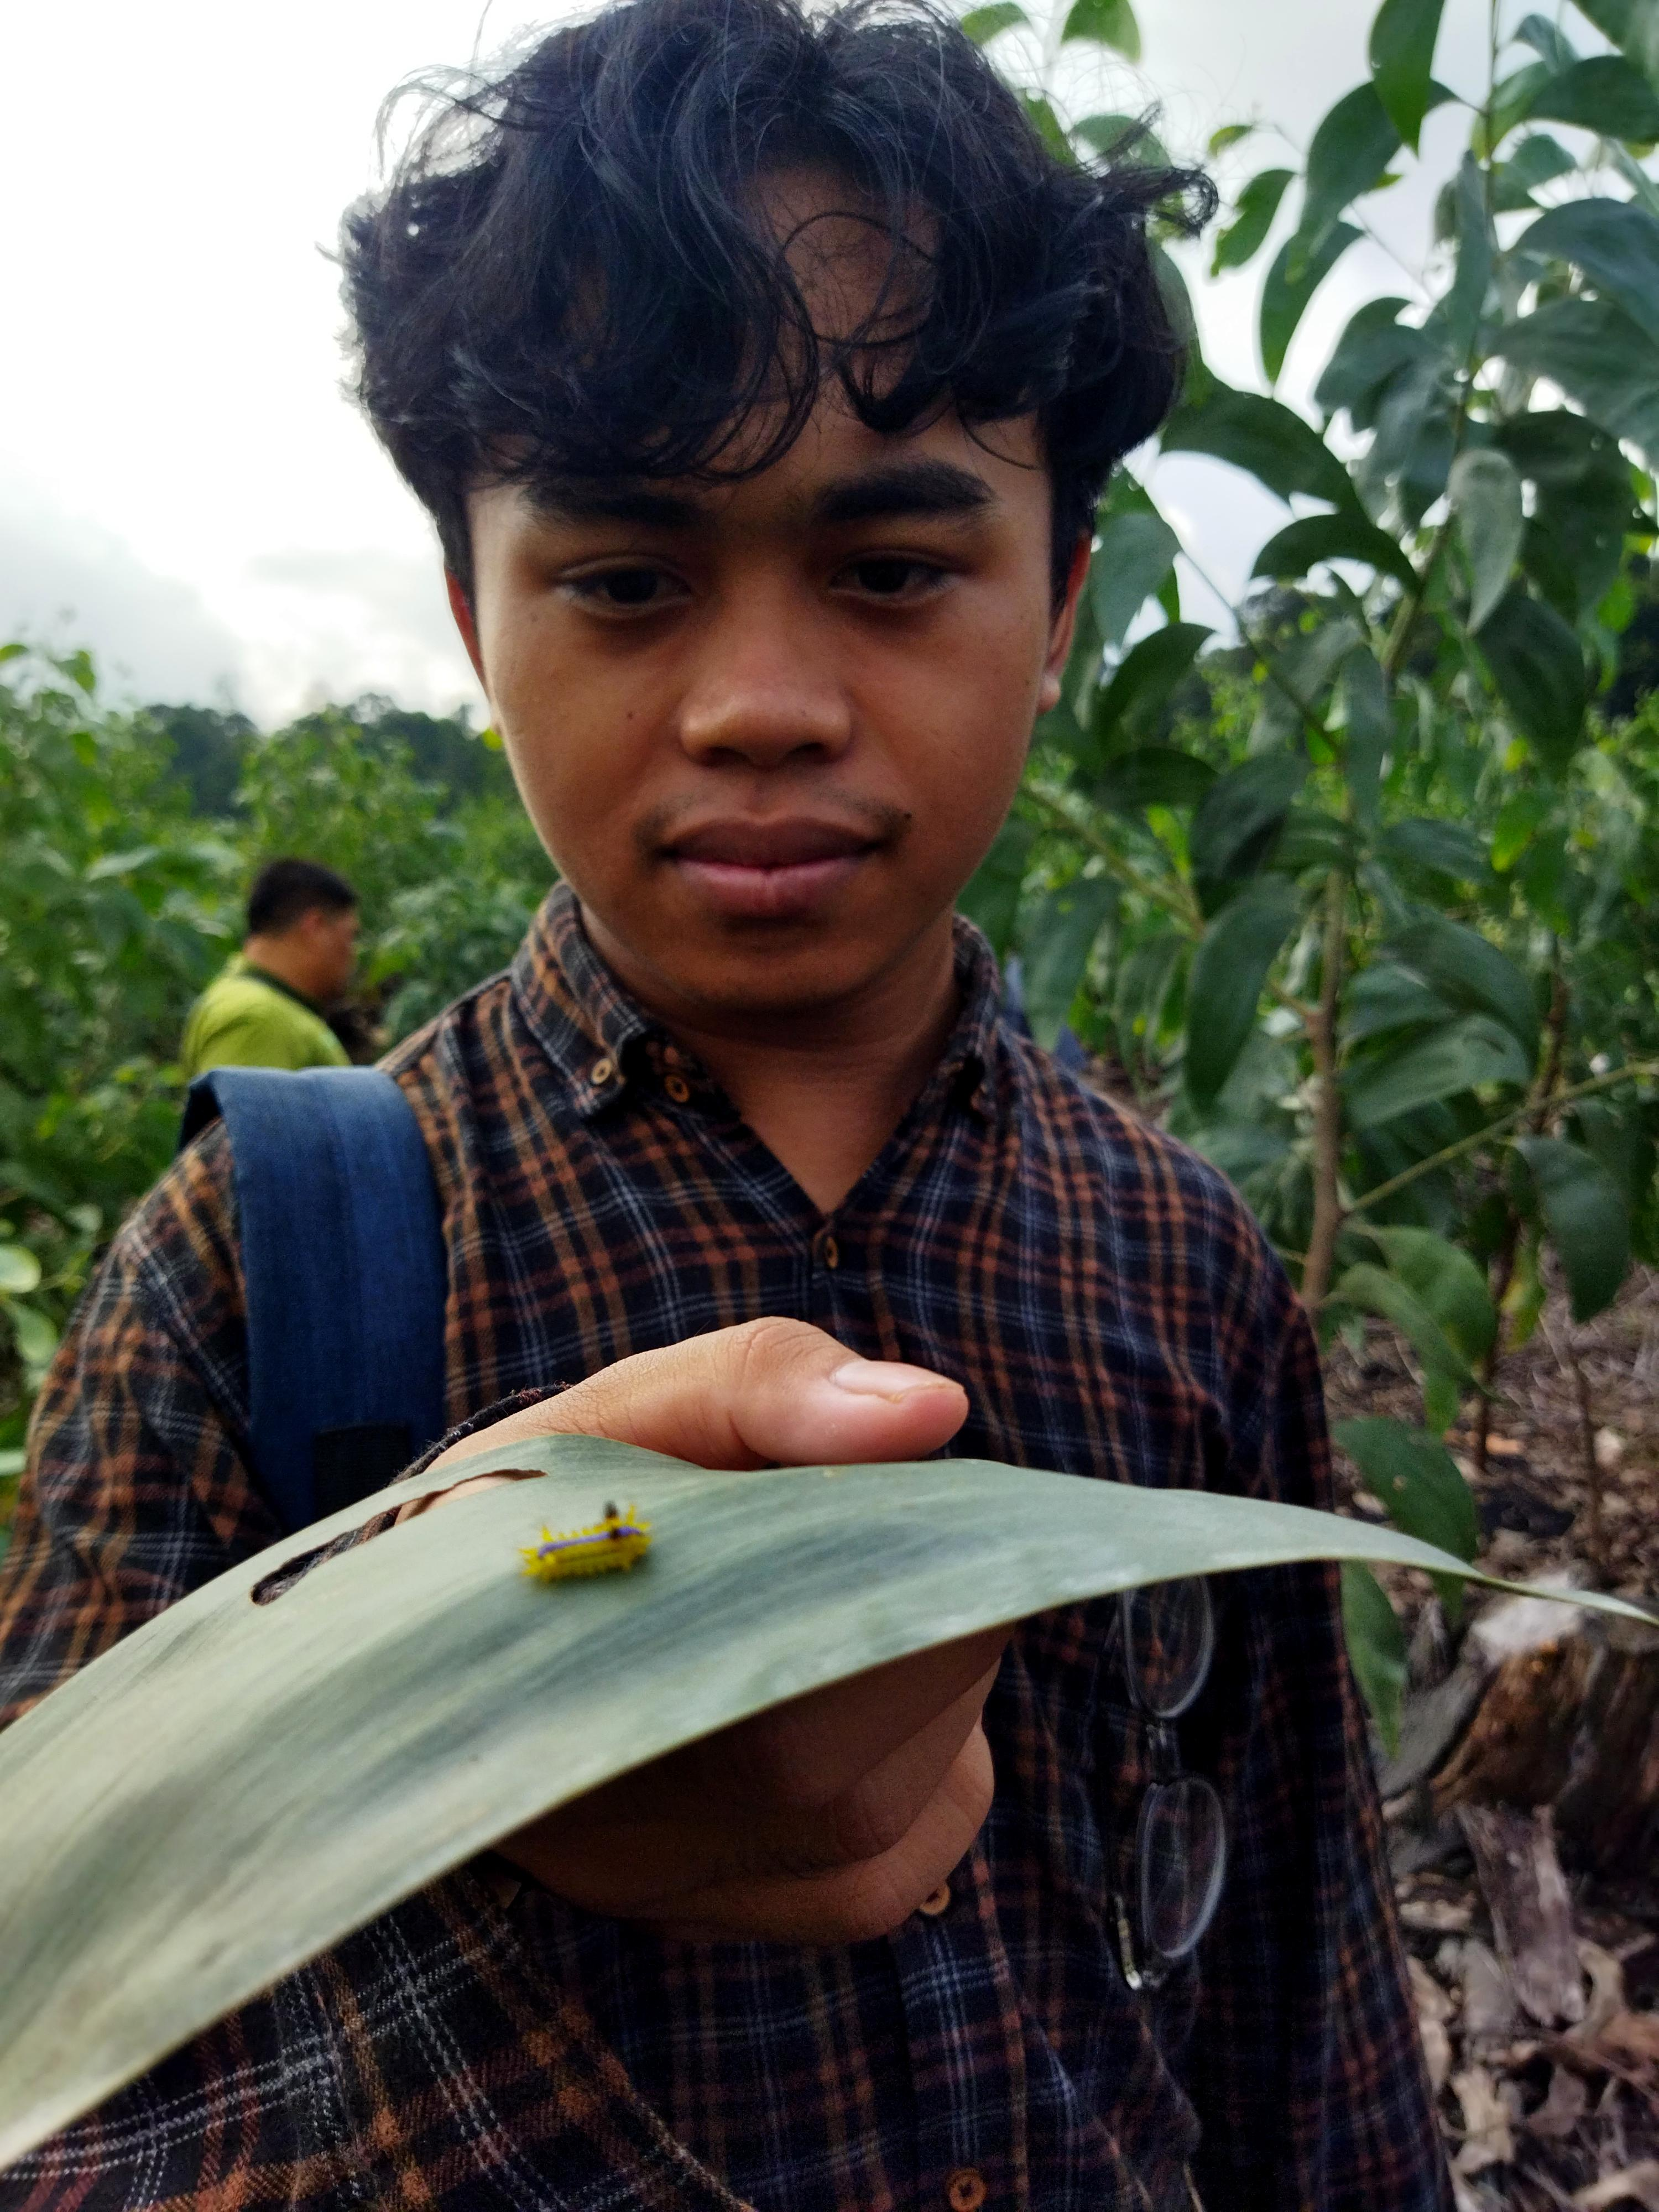Caterpillar: (493, 1505, 678, 1611)
